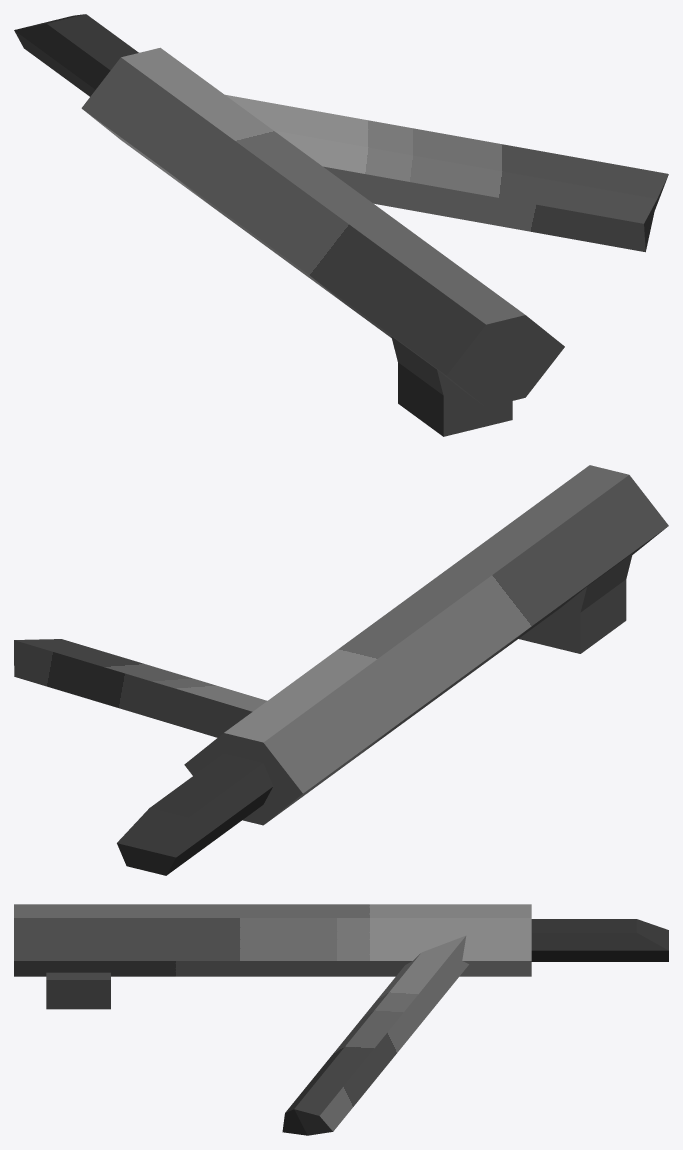
File: assualt.gltf
3 renders of one model, top to bottom at view 1: azimuth 30°, elevation 25°; view 2: azimuth 150°, elevation 25°; view 3: azimuth 270°, elevation 25°, orthographic. The views are drawn at different scales.
Visible parts, largest first — view 1: mesh (×4); view 2: mesh (×4); view 3: mesh (×4).
Part boxes in pixels (x1,y1,x2,y2): mesh (×4): (14, 14, 668, 436); mesh (×4): (14, 465, 668, 875); mesh (×4): (14, 904, 668, 1135).
Bounding box in the file's own units: 0.6925 × 0.2289 × 1.27.
1 material, 1 textured.
